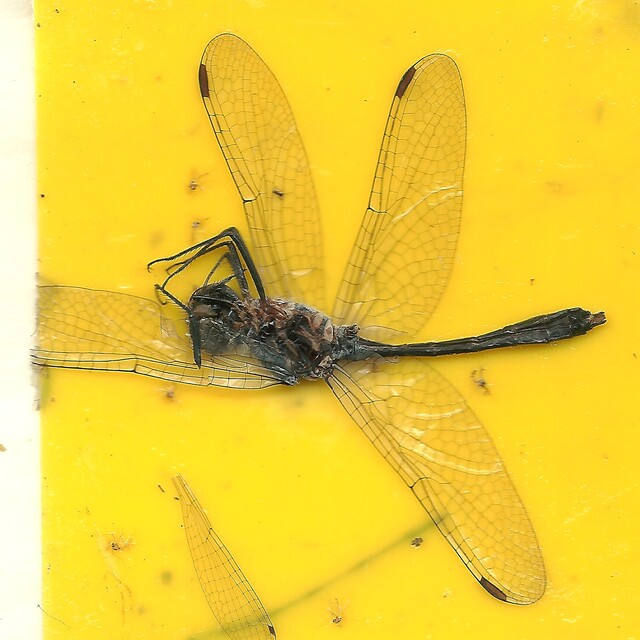Odonata: (33, 33, 607, 607)
